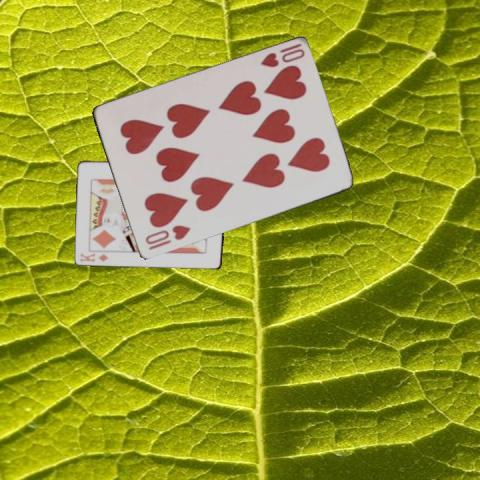10h: (142, 222, 192, 252), (257, 41, 306, 69)
Kd: (77, 250, 110, 263)
